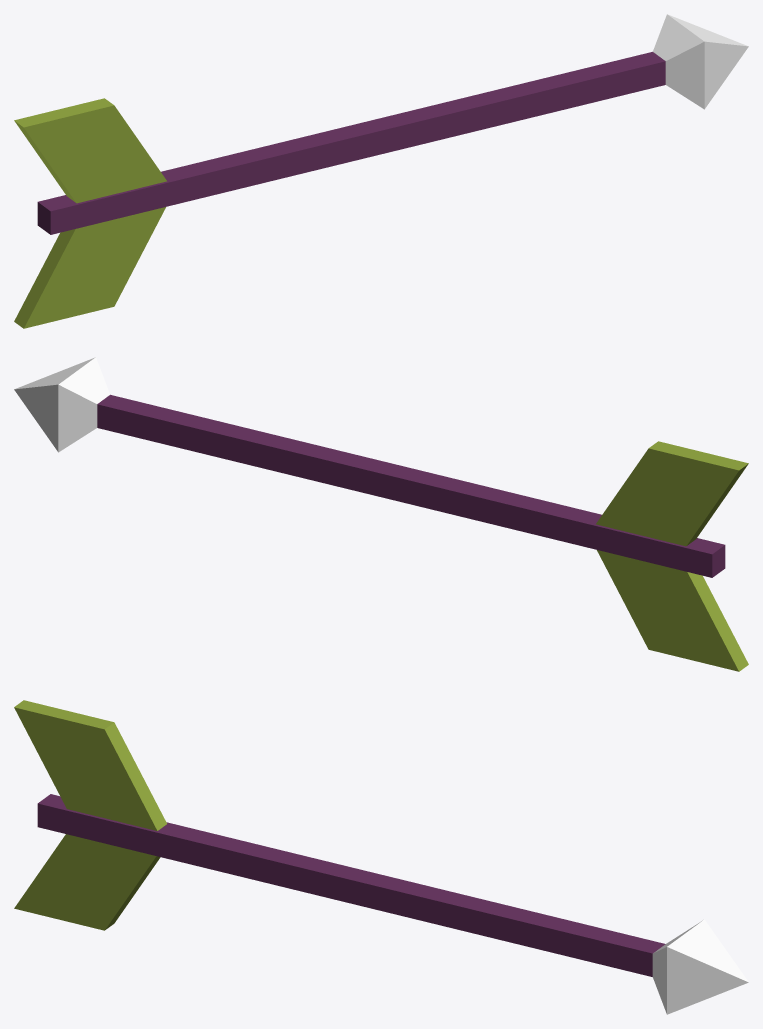
The model's file is GreenArrow.fbx.
The picture shows the model from 3 angles, top to bottom: view 1: azimuth 30°, elevation 25°; view 2: azimuth 150°, elevation 25°; view 3: azimuth 330°, elevation 25°; orthographic projection.
Parts seen in each view (by area): view 1: Cube.018; view 2: Cube.018; view 3: Cube.018.
Boxes of the visible parts, x1,y1,x2,y2 form: Cube.018: (14,14,748,328); Cube.018: (14,357,748,671); Cube.018: (14,700,748,1014).
Bounding box in the file's own units: 64.6 × 17.02 × 5.75.
